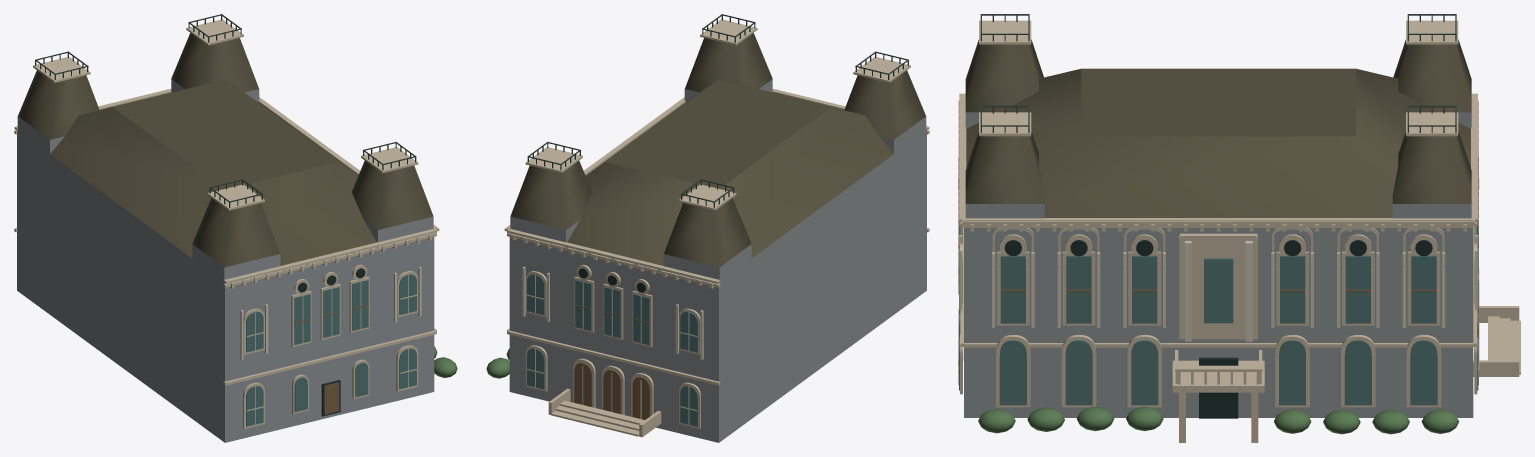
File: villard-hall-exterior-2026-11-04.glb
3 views of the same model, side by side, from view 1: azimuth 30°, elevation 25°; view 2: azimuth 150°, elevation 25°; view 3: azimuth 270°, elevation 25° (orthographic). The views are drawn at different scales.
Parts seen in each view (by area): view 1: villard-part-0, villard-part-1; view 2: villard-part-0, villard-part-1; view 3: villard-part-0, villard-part-1.
Boxes of the visible parts, x1,y1,x2,y2 form: villard-part-0: (14, 14, 439, 442); villard-part-1: (434, 346, 457, 377); villard-part-0: (504, 14, 929, 442); villard-part-1: (486, 348, 509, 378); villard-part-0: (958, 14, 1520, 442); villard-part-1: (978, 406, 1459, 434).
Bounding box in the file's own units: 21.75 × 19.26 × 34.26.
